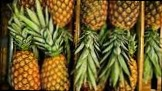Pineapple: (40, 8, 74, 91), (10, 6, 41, 90)
